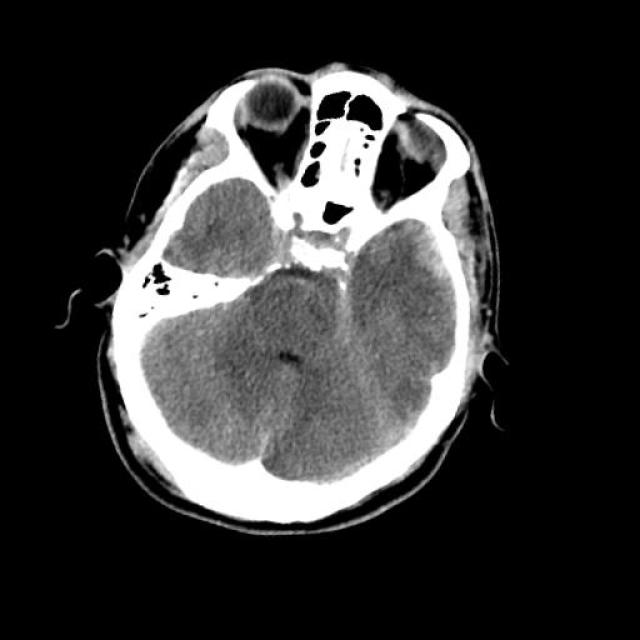Subdural: (358, 207, 487, 296)
